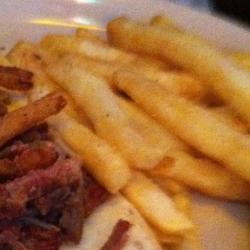fries: (42, 20, 245, 209)
